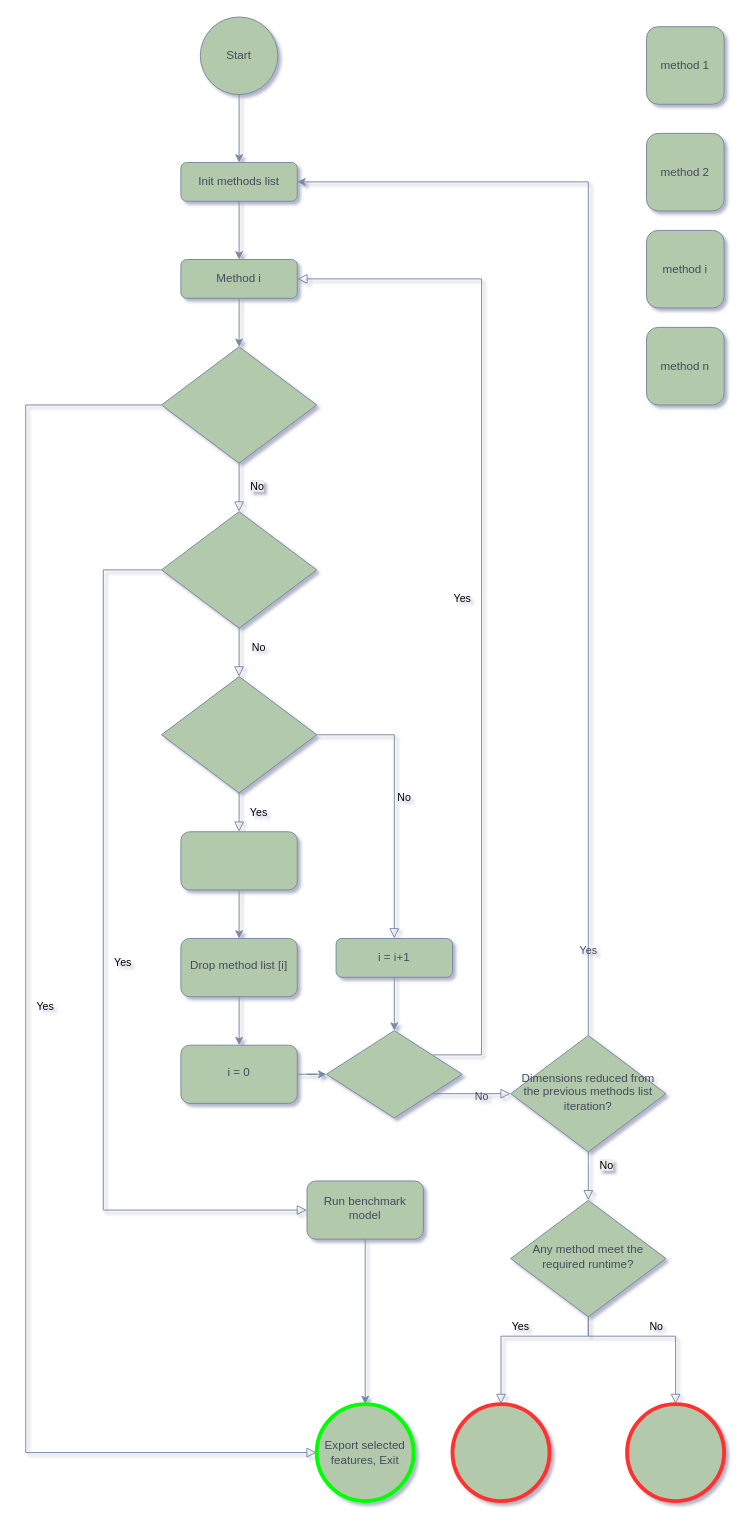
The diagram is 749 pixels wide and 1526 high, and some of its shapes have lost their labels. The shapes that lost their labels are listed below. From the top down, each one's centre as x and y in pixels, then its label:
At point (239, 404): "Reduced to the required dimensions?".
At point (239, 569): "Dimensions reduced enough to run benchmark model?".
At point (239, 734): "Method meet the required runtime?".
At point (238, 860): "Apply method i".
At point (393, 1074): "More methods in list?".
At point (500, 1452): "Exit, get higher time complexity for benchmark model".
At point (675, 1452): "Exit, get higher time complexities".
